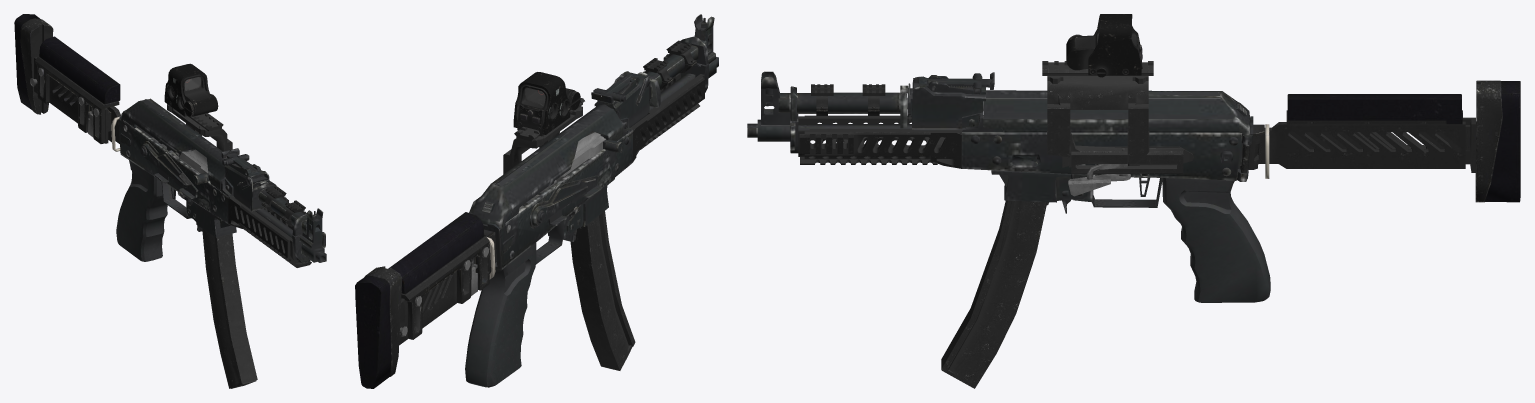
File: vityazAttack.glb
3 renders of one model, left to right at view 1: azimuth 30°, elevation 25°; view 2: azimuth 150°, elevation 25°; view 3: azimuth 270°, elevation 25°, orthographic. The views are drawn at different scales.
Visible parts, largest first — view 1: Folding Stock, receiver, Magazine, pistol grip, Dust Cover, holo sight, bottom hand guard, safety, Side Mounted Rail, top rail, bolt carrier, rear sight; view 2: Folding Stock, receiver, pistol grip, Magazine, Dust Cover, holo sight, bottom hand guard, safety, Side Mounted Rail, bolt carrier, top rail, rear sight; view 3: Folding Stock, receiver, Side Mounted Rail, pistol grip, Magazine, Dust Cover, bottom hand guard, holo sight, top rail, rear sight.
Part boxes in pixels (x1,y1,x2,y2): Folding Stock: (14,14,121,151); receiver: (118,116,326,263); Magazine: (202,228,257,388); pistol grip: (116,160,173,261); Dust Cover: (120,98,227,190); holo sight: (164,63,218,116); bottom hand guard: (228,196,311,267); safety: (140,141,198,198); Side Mounted Rail: (167,104,232,151); top rail: (261,186,306,226); bolt carrier: (179,149,225,184); rear sight: (221,148,257,172); Folding Stock: (355,212,496,388); receiver: (482,14,718,270); pistol grip: (465,242,536,387); Magazine: (570,211,635,370); Dust Cover: (469,104,623,228); holo sight: (513,72,580,136); bottom hand guard: (630,73,704,162); safety: (529,175,601,228); Side Mounted Rail: (503,97,584,174); bolt carrier: (545,132,623,189); top rail: (643,40,696,89); rear sight: (591,75,633,103); Folding Stock: (1239,80,1520,202); receiver: (747,71,1253,213); Side Mounted Rail: (1042,61,1183,196); pistol grip: (1162,178,1270,302); Magazine: (941,200,1048,388); Dust Cover: (983,90,1250,135); bottom hand guard: (798,115,961,168); holo sight: (1066,14,1142,77); top rail: (811,84,885,115); rear sight: (928,72,994,94).
Size of the model in its own units: 0.1092 by 0.5238 by 1.
9 materials, 9 textured.
